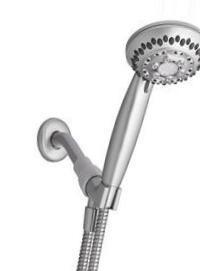Ducha: (33, 9, 199, 270)
